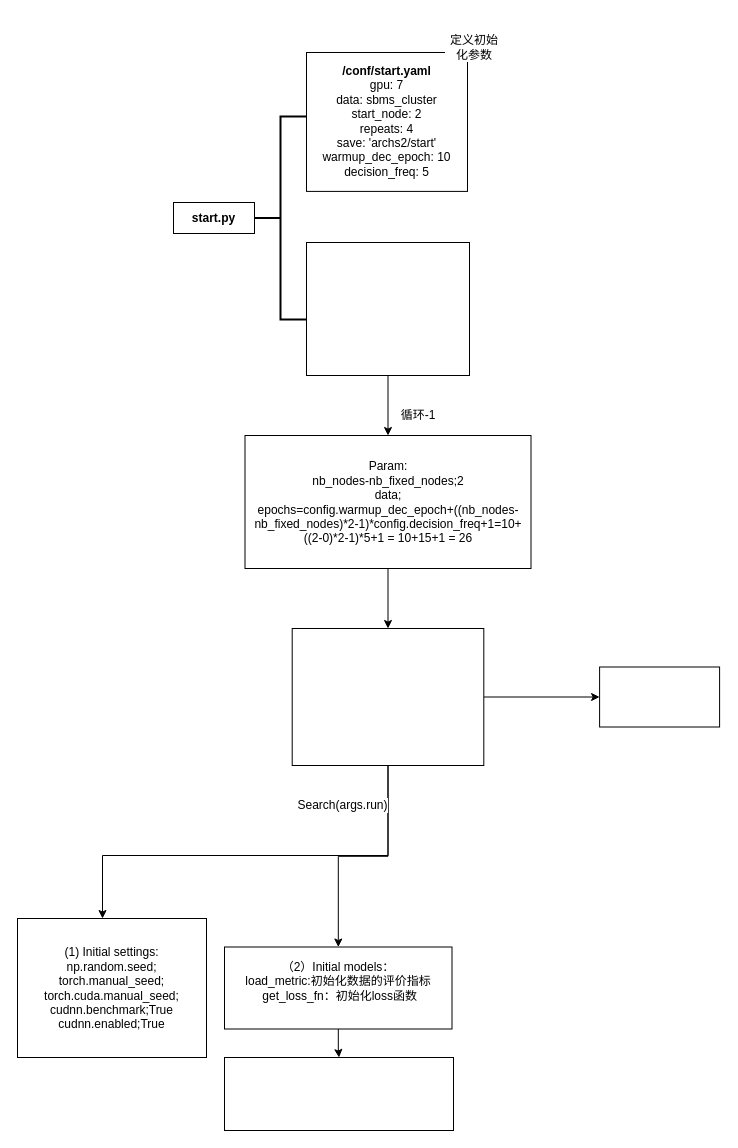
Image size: 738x1148. Some labels were removed from this diagram. The centre of each missing label's shape, as x and y in pixels:
1、hydra.main-defaults:Param: basic; ds; optimizer; visualize; 2、Search（args.run）: (x=387, y=697)
1、nb_nodes;2 nb_fixed_nodes;0 expand_form;'“”: (x=388, y=309)
Model_Search：: (x=339, y=1093)
